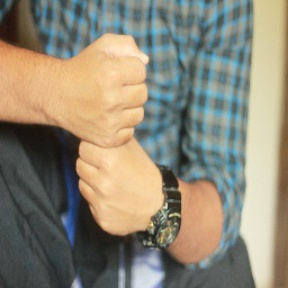G: (63, 29, 174, 243)
